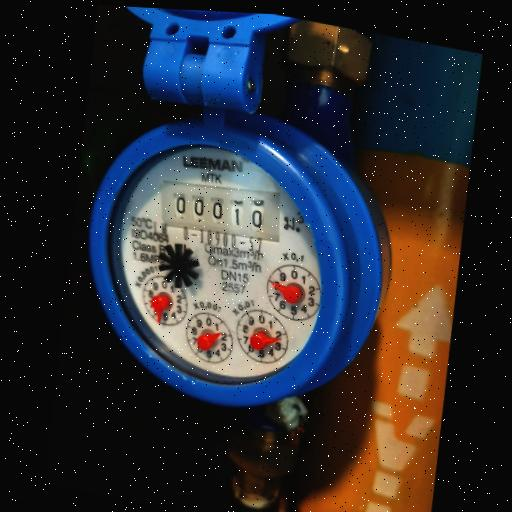0: (245, 198, 270, 234), (208, 196, 229, 226), (190, 194, 209, 223), (171, 194, 189, 220)
1: (226, 198, 247, 230)
border_water_meter_number: (158, 172, 286, 248)
